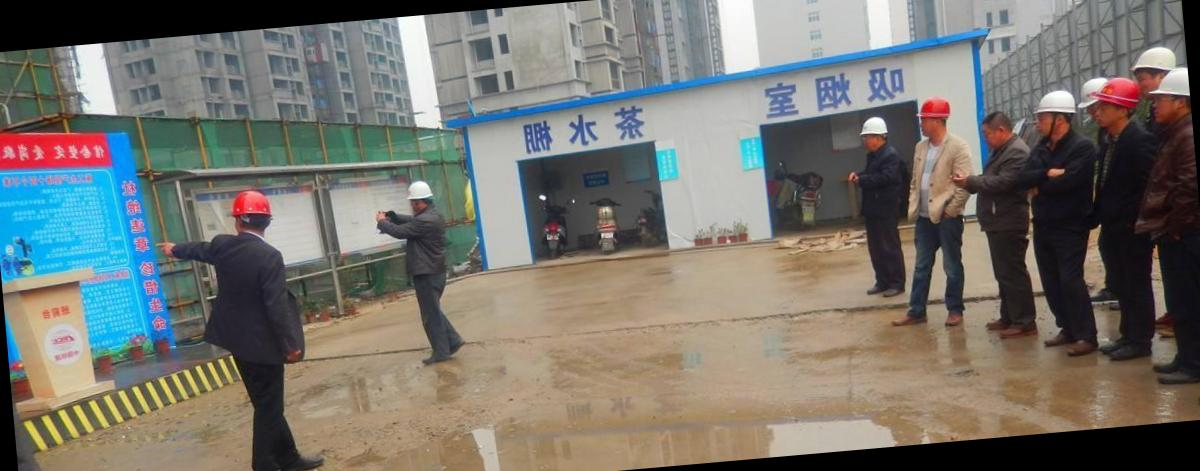helmet: (224, 184, 276, 220), (402, 175, 438, 210)
person: (179, 181, 329, 471), (1068, 79, 1168, 372), (1011, 84, 1101, 358), (897, 89, 983, 332), (964, 107, 1044, 348), (371, 175, 459, 373), (852, 104, 914, 306)
